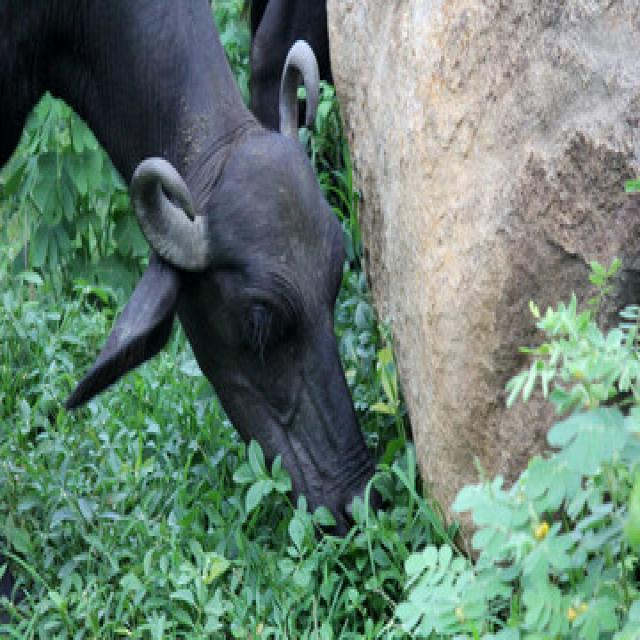Buffalo: (2, 0, 376, 529)
